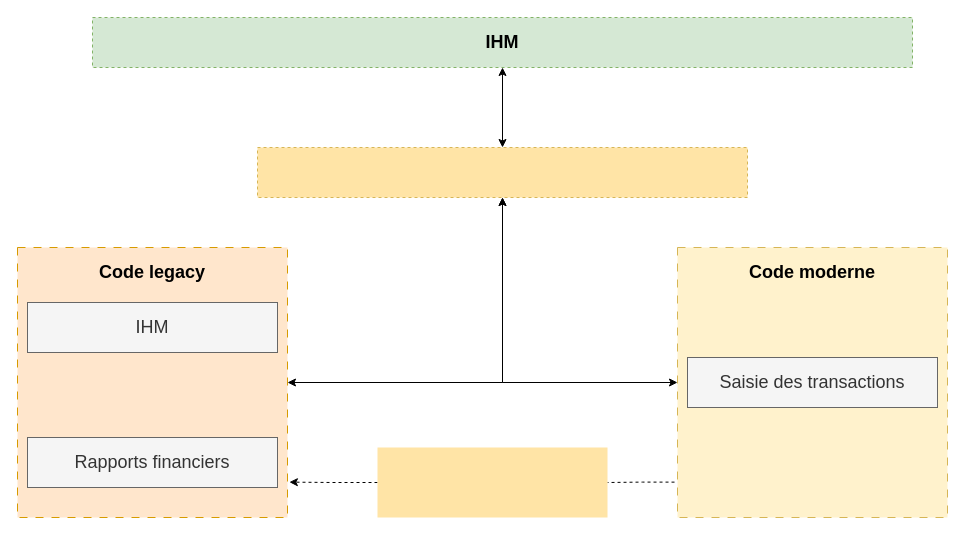
Some shapes in this 965 by 535 pixel diagram are drawn without their labels. The shapes that lost their labels are listed below. From the top down, each one's centre as x and y in pixels, then its label:
At pixel 502 172: "Facade".
At pixel 492 482: "Anti-Corruption Layer Pattern".
